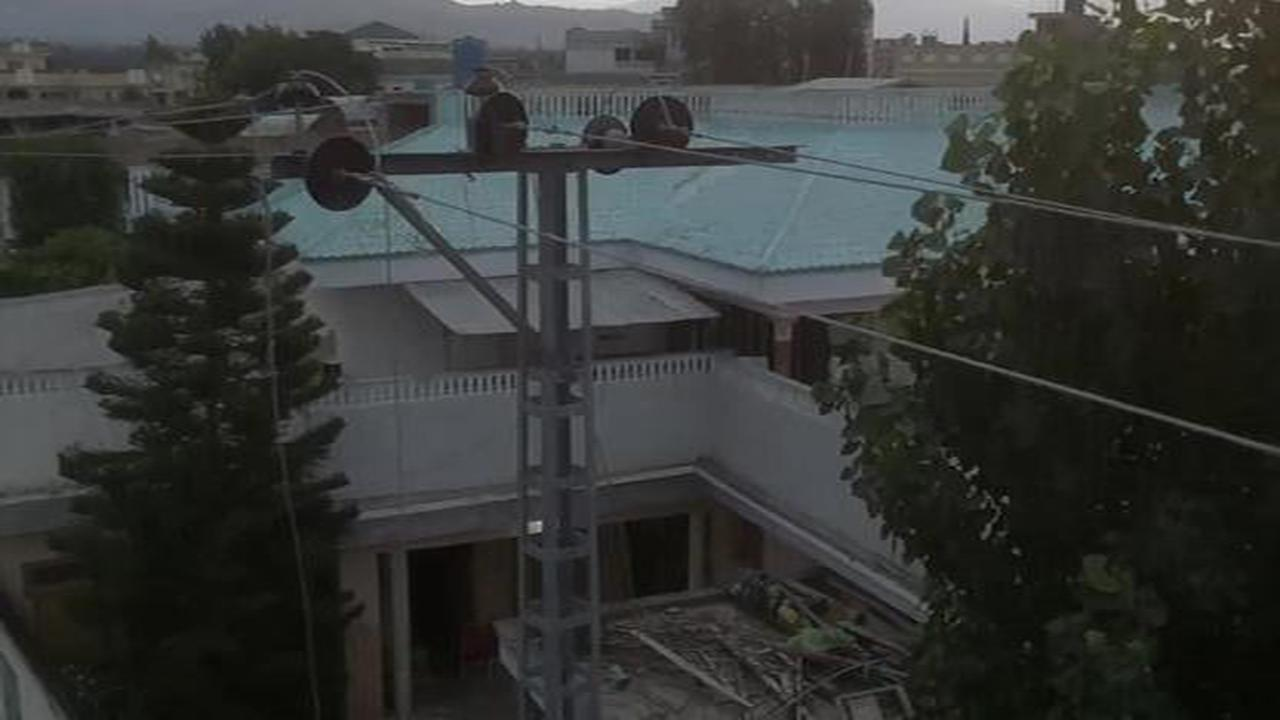insulator_disc: (302, 136, 380, 208), (632, 92, 699, 164), (470, 94, 531, 170), (579, 113, 631, 177)
insulator_pin: (271, 60, 322, 113), (465, 65, 507, 99)
